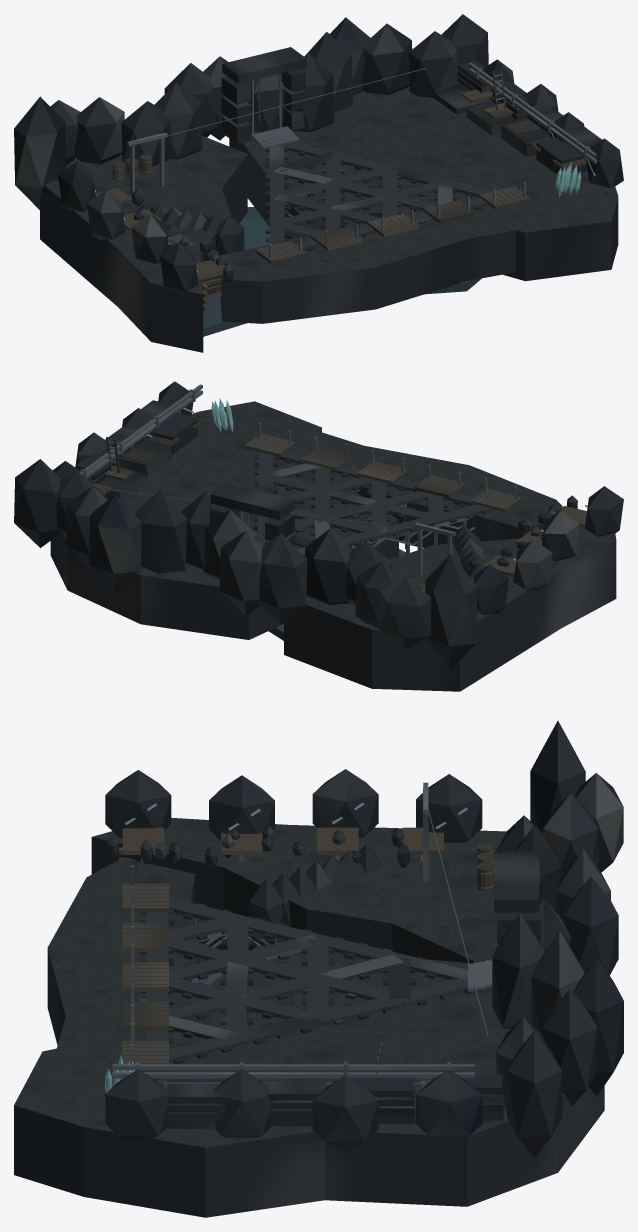
File: mine-level.glb
3 views of the same model, one above another, from view 1: azimuth 30°, elevation 25°; view 2: azimuth 150°, elevation 25°; view 3: azimuth 270°, elevation 25° (orthographic). The views are drawn at different scales.
Parts seen in each view (by area): view 1: West hanging shelf, Crushed-stone track bed, Weathered east catwalk, Bridge undergirder, Fault bed, Bridge lattice, Subterranean water, Copper crystal; view 2: West hanging shelf, Crushed-stone track bed, Weathered east catwalk, Bridge undergirder, Bridge lattice, Fault bed, Copper crystal; view 3: West hanging shelf, Crushed-stone track bed, Weathered east catwalk, Bridge undergirder, Fault bed, Bridge lattice.
Part boxes in pixels (x1=…): West hanging shelf: x1=14, y1=14, x2=623, y2=352; Crushed-stone track bed: x1=269, y1=141, x2=493, y2=250; Weathered east catwalk: x1=95, y1=68, x2=586, y2=310; Bridge undergirder: x1=112, y1=62, x2=597, y2=258; Fault bed: x1=203, y1=187, x2=527, y2=336; Bridge lattice: x1=127, y1=67, x2=590, y2=216; Subterranean water: x1=215, y1=219, x2=269, y2=292; Copper crystal: x1=95, y1=132, x2=595, y2=273; West hanging shelf: x1=14, y1=381, x2=623, y2=691; Crushed-stone track bed: x1=257, y1=451, x2=494, y2=556; Weathered east catwalk: x1=92, y1=414, x2=586, y2=592; Bridge undergirder: x1=79, y1=384, x2=517, y2=590; Bridge lattice: x1=80, y1=389, x2=474, y2=547; Fault bed: x1=248, y1=434, x2=518, y2=640; Copper crystal: x1=147, y1=398, x2=587, y2=560; West hanging shelf: x1=14, y1=720, x2=623, y2=1217; Crushed-stone track bed: x1=146, y1=897, x2=467, y2=1063; Weathered east catwalk: x1=119, y1=827, x2=494, y2=1089; Bridge undergirder: x1=112, y1=787, x2=494, y2=1088; Fault bed: x1=122, y1=885, x2=214, y2=1063; Bridge lattice: x1=136, y1=782, x2=450, y2=1084.
Bounding box in the file's own units: 30.2 × 9.1 × 23.55.
Materials: 9 (6 with a texture image).
